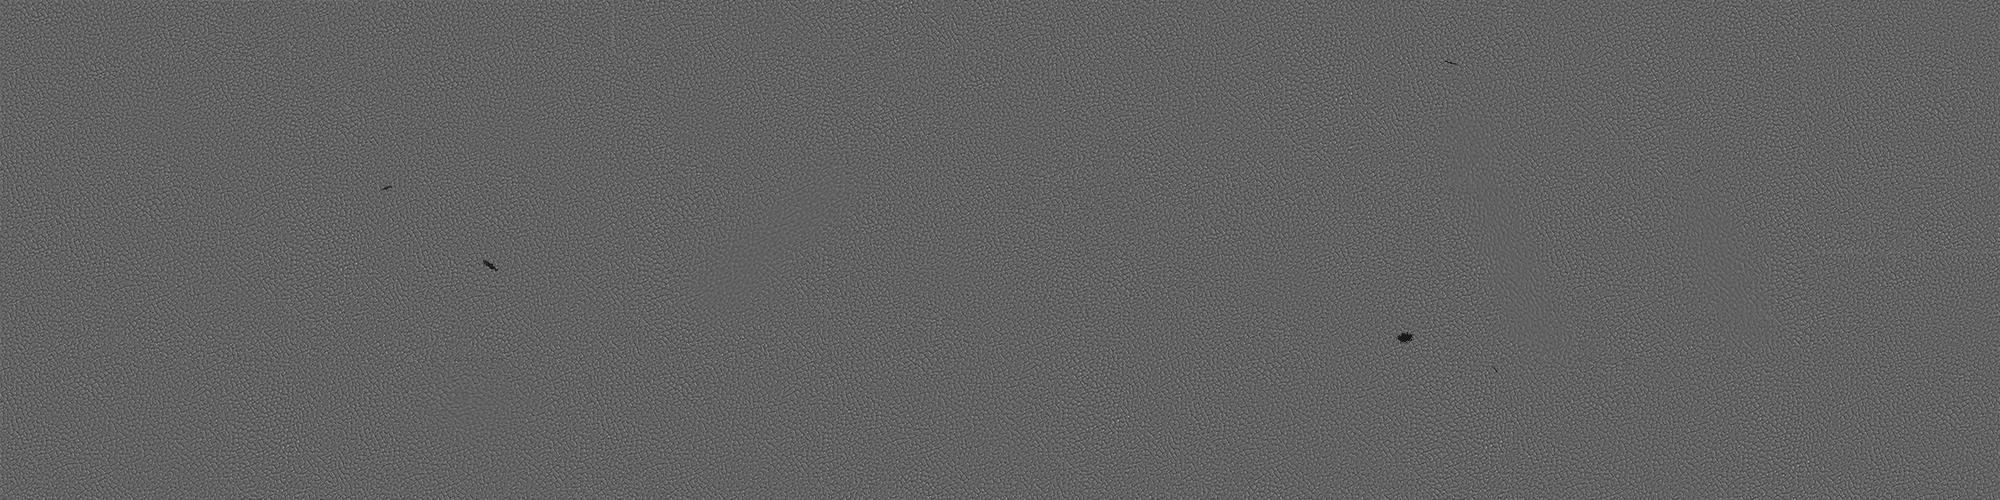Decomposed: (474, 253, 503, 276), (1437, 52, 1466, 71), (1395, 325, 1416, 351), (378, 177, 398, 198)
